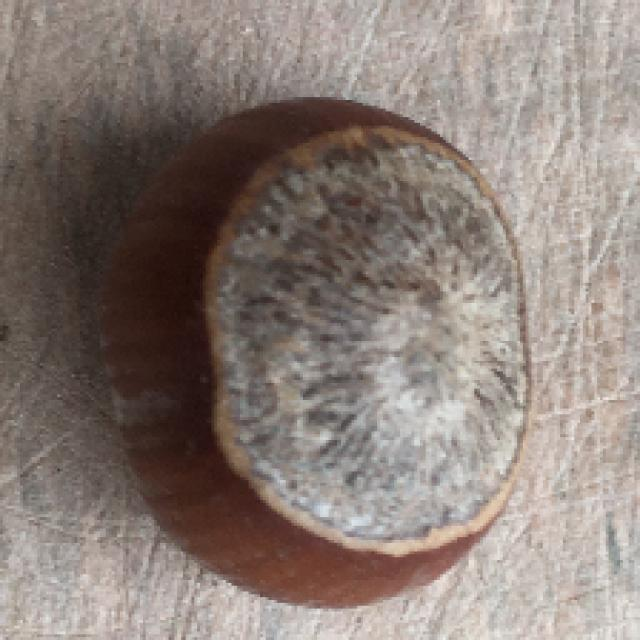qualityHazelnut: (110, 89, 533, 616)
